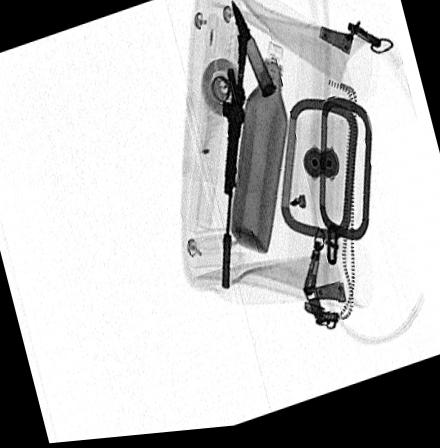Bullet: (231, 3, 275, 104)
Gun: (219, 27, 250, 294)
